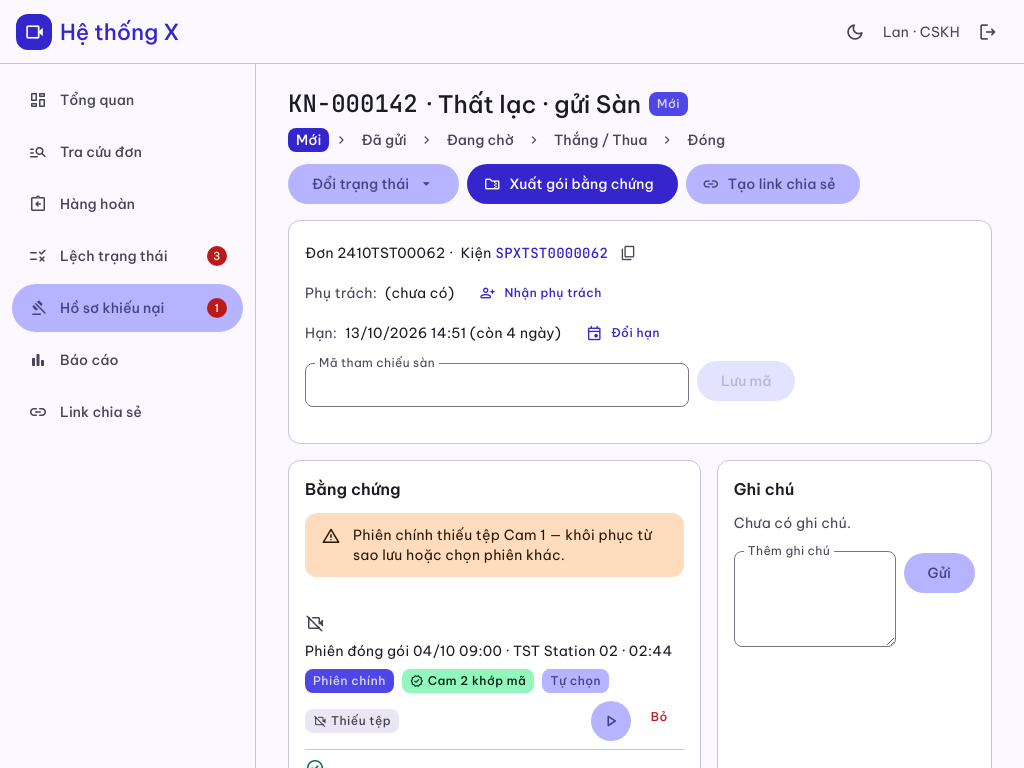
D17: dòng bằng chứng chip 'Thiếu tệp', player khối xám; ShareLinkDialog hàng xám 'Clip thiếu tệp'
Expected: the text "Thiếu tệp" is shown, left=331, top=713, right=391, bottom=729
Click the button named "Xem ". click: click(611, 721)
box: left=591, top=701, right=631, bottom=741
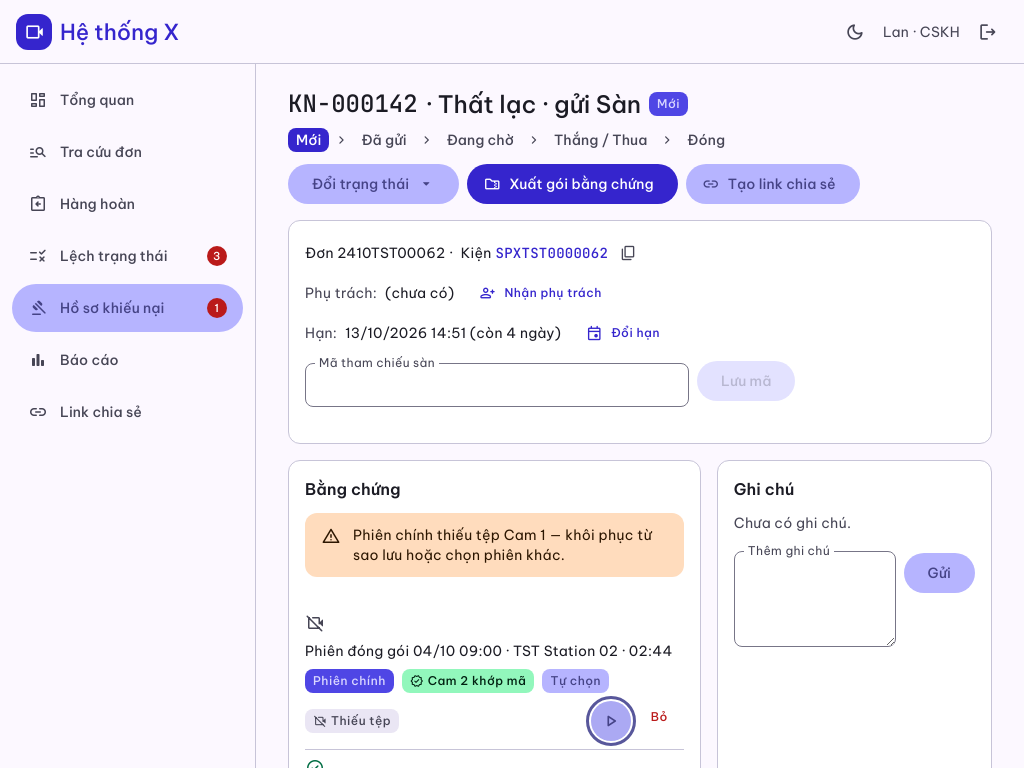
Click the button "Tạo link chia sẻ". click: click(773, 184)
box: left=686, top=164, right=860, bottom=204
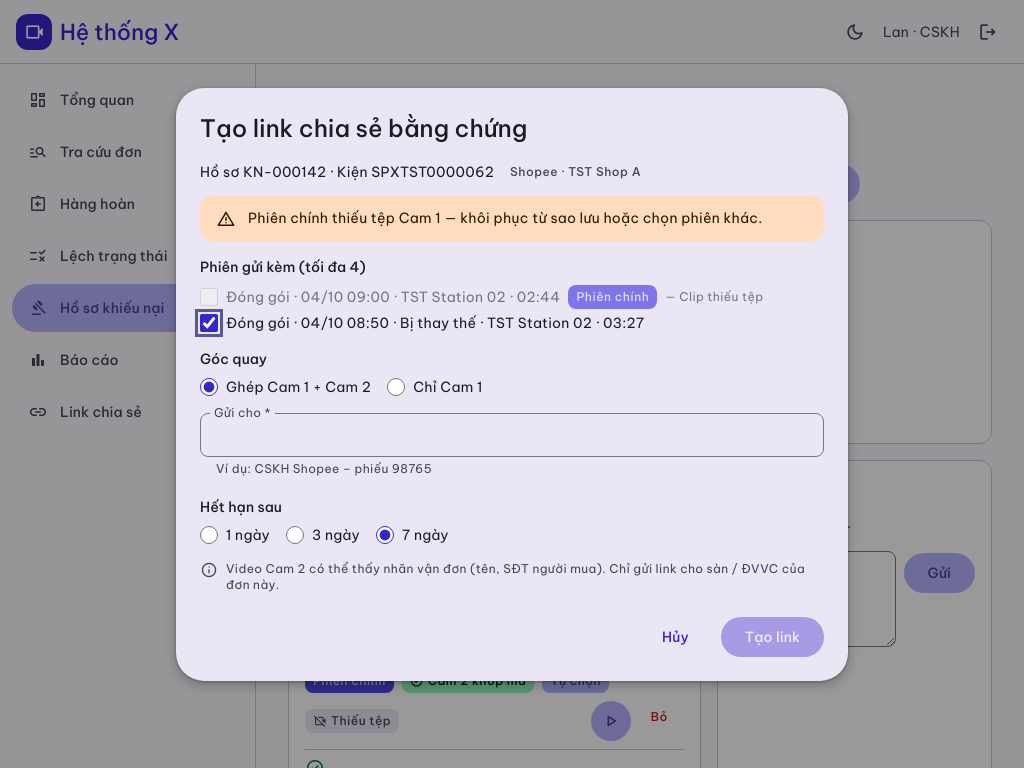
Now the number of checkboxes labelled "Đóng gói" is 2, box left=200, top=288, right=218, bottom=306; left=200, top=314, right=218, bottom=332
Now the checkbox labelled "Đóng gói" is disabled, box left=200, top=288, right=218, bottom=306
Now the checkbox labelled "Đóng gói" is not checked, box left=200, top=288, right=218, bottom=306
